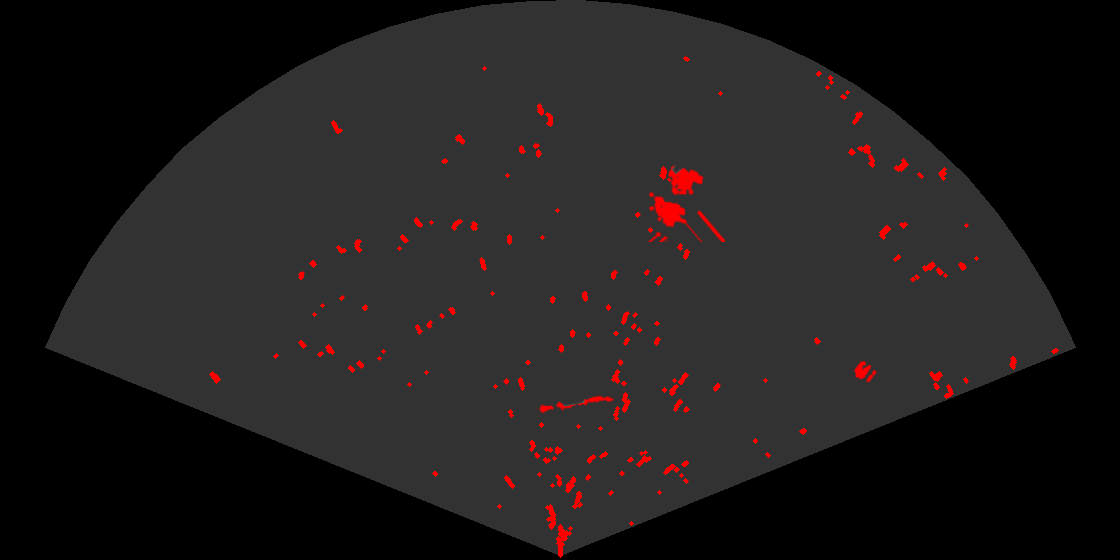ball: (852, 359, 878, 384)
cage: (646, 163, 725, 242)
chain: (536, 394, 615, 415)
